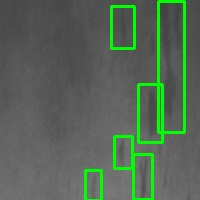inclusion: (158, 1, 184, 132), (138, 84, 162, 142), (111, 6, 134, 48), (133, 154, 152, 199), (114, 136, 132, 168), (85, 170, 101, 200)
